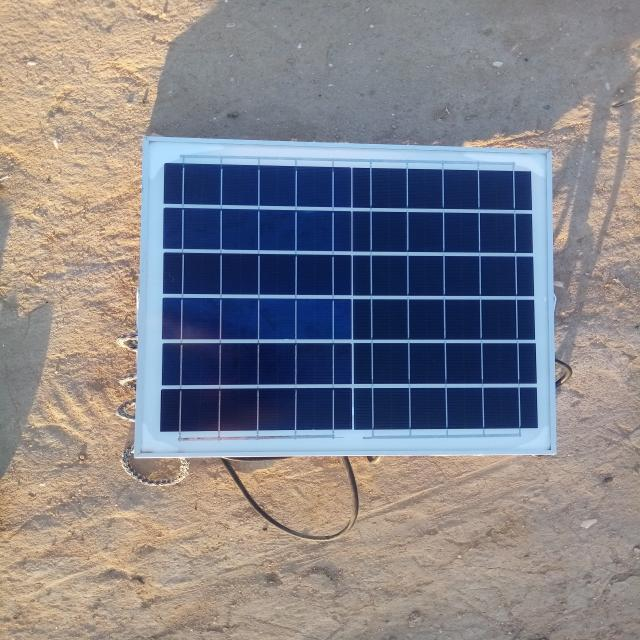no faulty: (137, 140, 552, 458)
